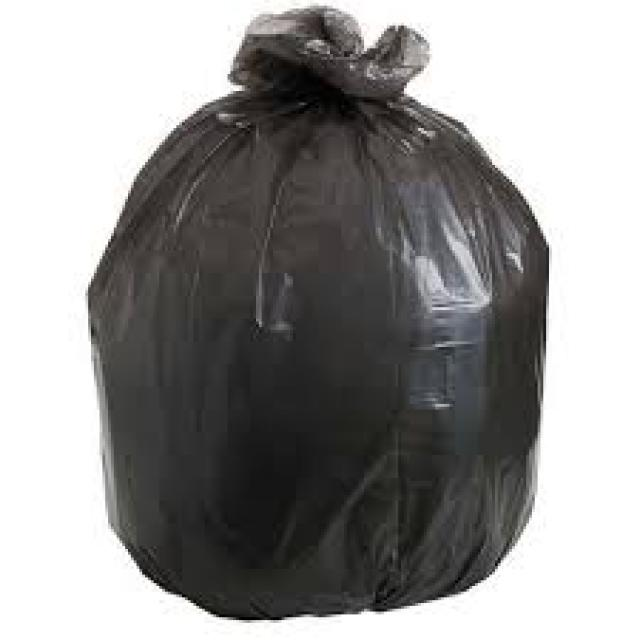plastic_bag: (86, 21, 547, 618)
